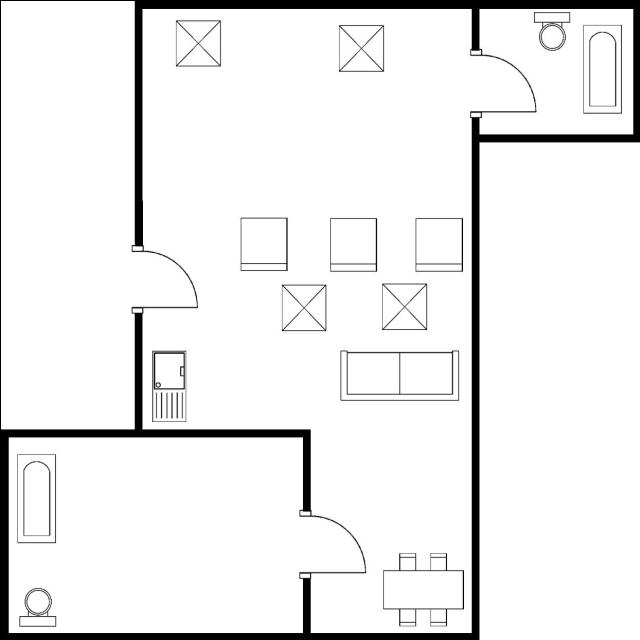coffee_table: (332, 21, 388, 77), (276, 280, 330, 336), (377, 278, 430, 335), (172, 16, 226, 70)
dining_table: (378, 549, 467, 630)
large_sink: (15, 586, 60, 630), (530, 12, 574, 52)
large_sofa: (334, 346, 463, 404)
sink: (146, 343, 190, 428)
small_sofa: (411, 214, 467, 276), (236, 212, 292, 274), (326, 214, 380, 276)
tub: (578, 20, 626, 118), (13, 449, 59, 549)
